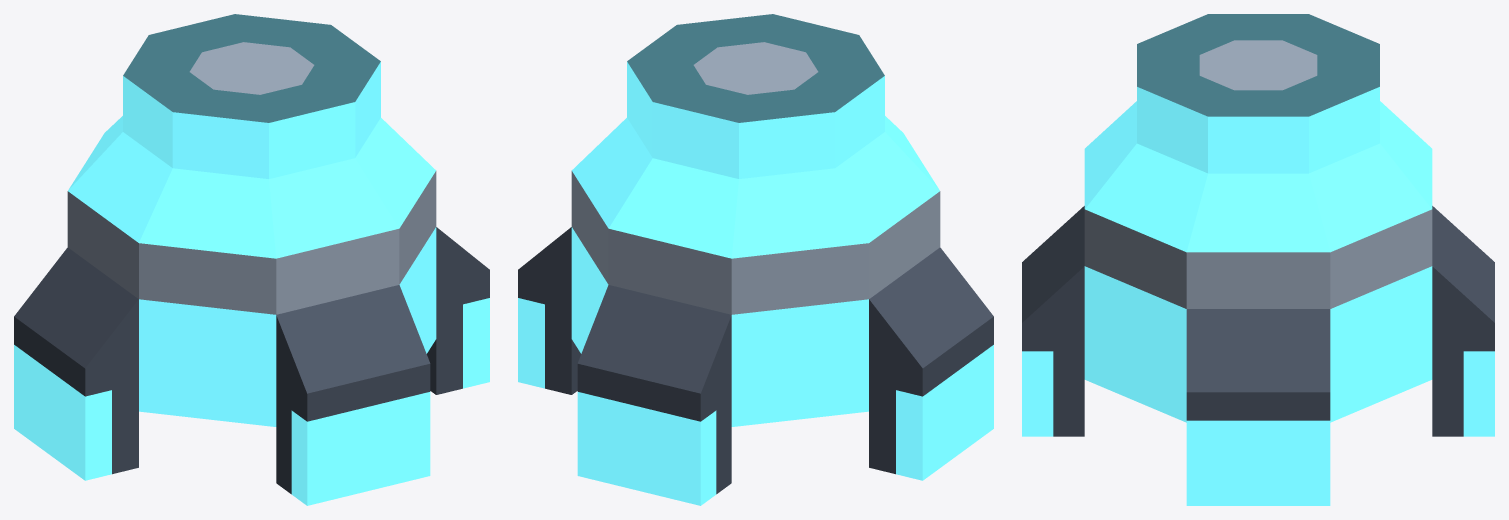
File: machine_barrelLarge.glb
The picture shows the model from 3 angles, left to right: view 1: azimuth 30°, elevation 25°; view 2: azimuth 150°, elevation 25°; view 3: azimuth 270°, elevation 25°; orthographic projection.
Parts seen in each view (by area): view 1: machine_barrelLarge; view 2: machine_barrelLarge; view 3: machine_barrelLarge.
Part boxes in pixels (<box>): machine_barrelLarge: <box>14,14,489,505</box>; machine_barrelLarge: <box>518,14,993,505</box>; machine_barrelLarge: <box>1022,14,1494,505</box>.
Size of the model in its own units: 0.7543 by 0.6 by 0.7543.
